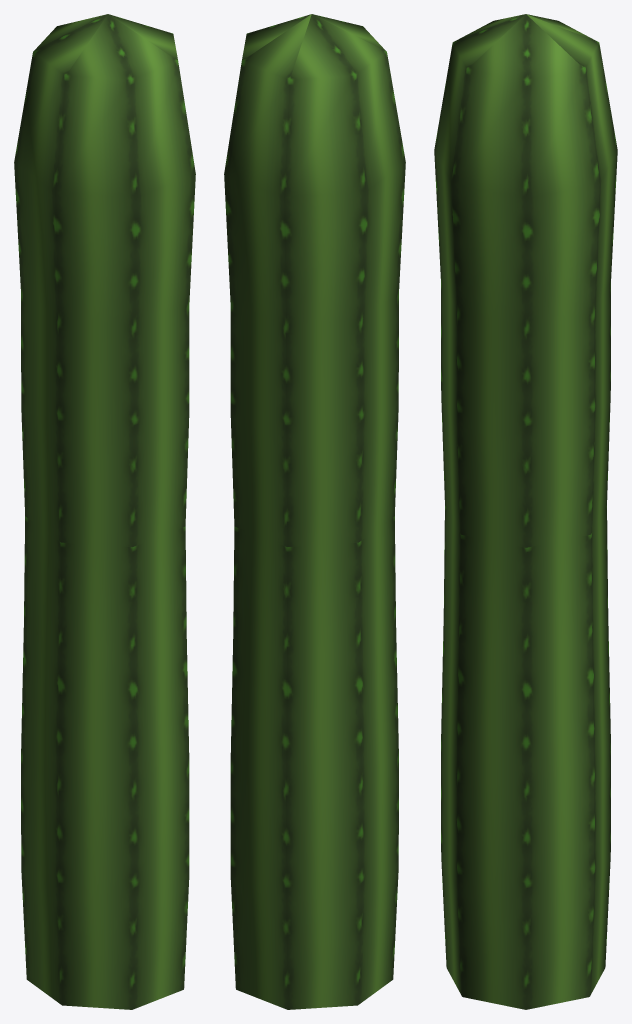
The model's file is Ctn_cactus_01_v01.FBX.
3 views of the same model, side by side, from view 1: azimuth 30°, elevation 25°; view 2: azimuth 150°, elevation 25°; view 3: azimuth 270°, elevation 25° (orthographic).
Parts seen in each view (by area): view 1: Ctn_cactus_01_v01; view 2: Ctn_cactus_01_v01; view 3: Ctn_cactus_01_v01.
Boxes of the visible parts, x1,y1,x2,y2 form: Ctn_cactus_01_v01: (14,14,195,1009); Ctn_cactus_01_v01: (224,14,405,1009); Ctn_cactus_01_v01: (434,14,617,1009).
Bounding box in the file's own units: 20.22 × 120 × 20.74.
